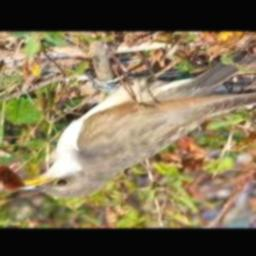Cuckoo: (18, 32, 256, 198)
